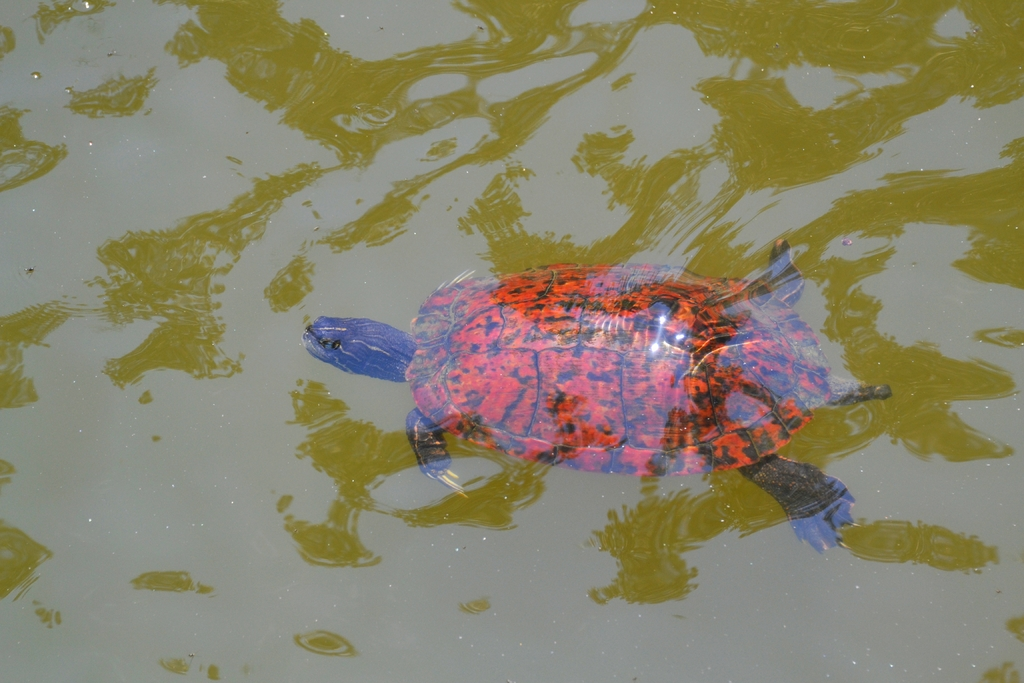Sea turtles: (293, 236, 897, 555)
